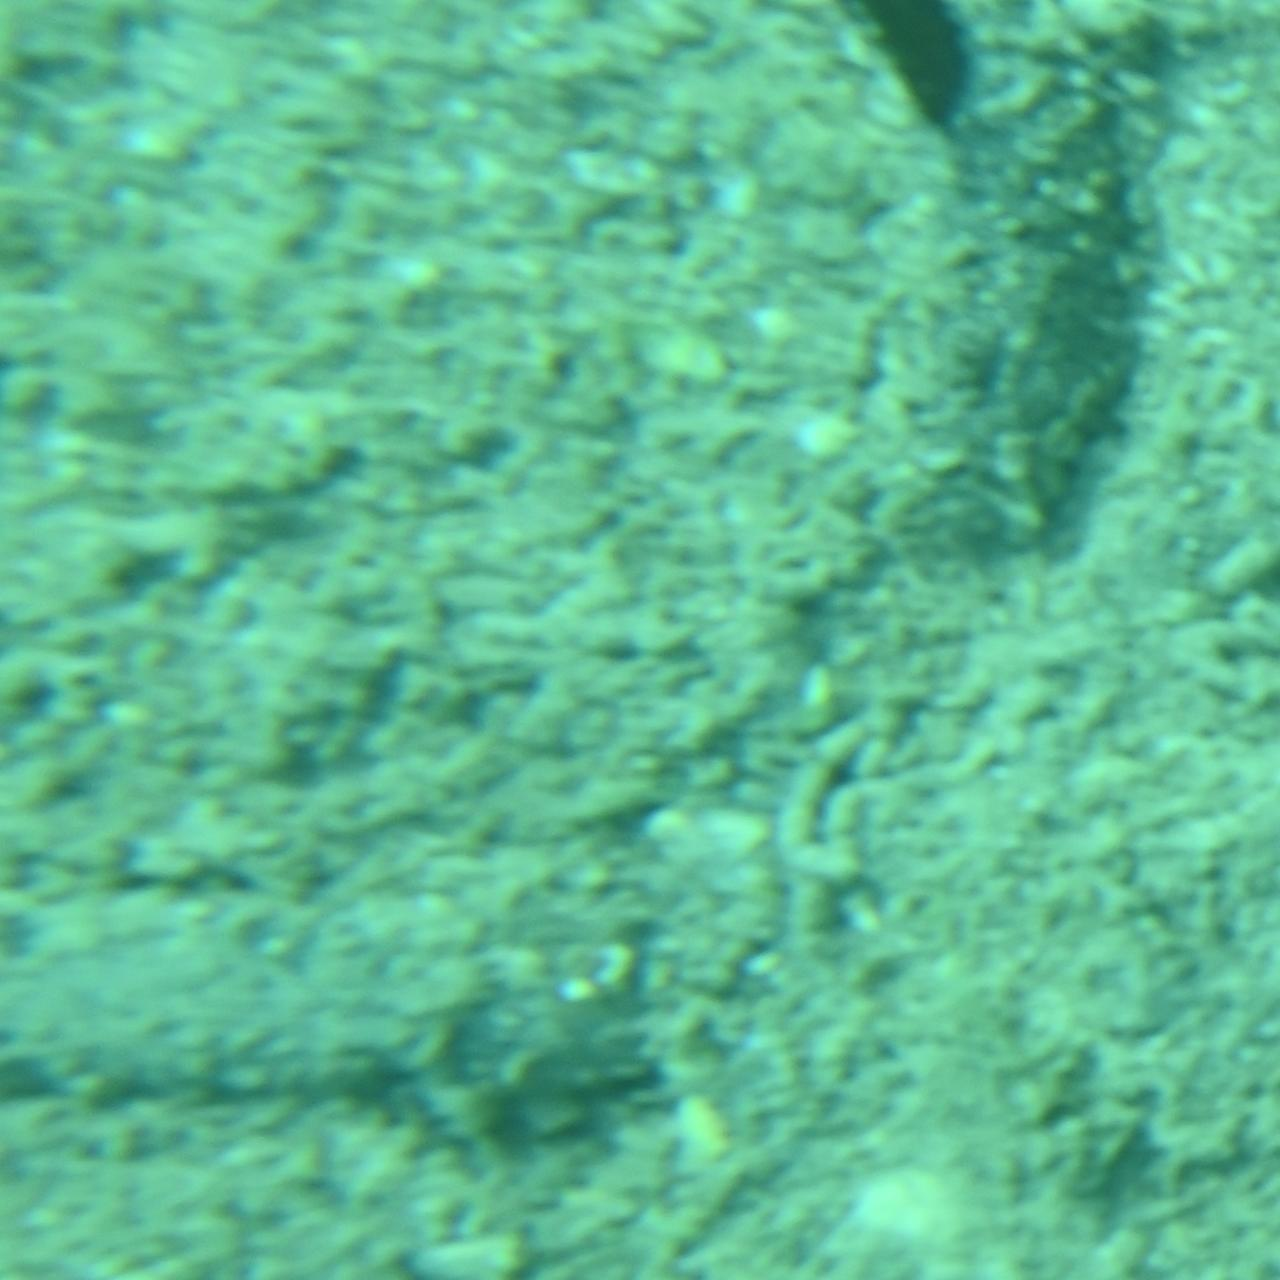Holothuria tubulosa: (0, 857, 716, 1177), (806, 0, 1146, 588)
